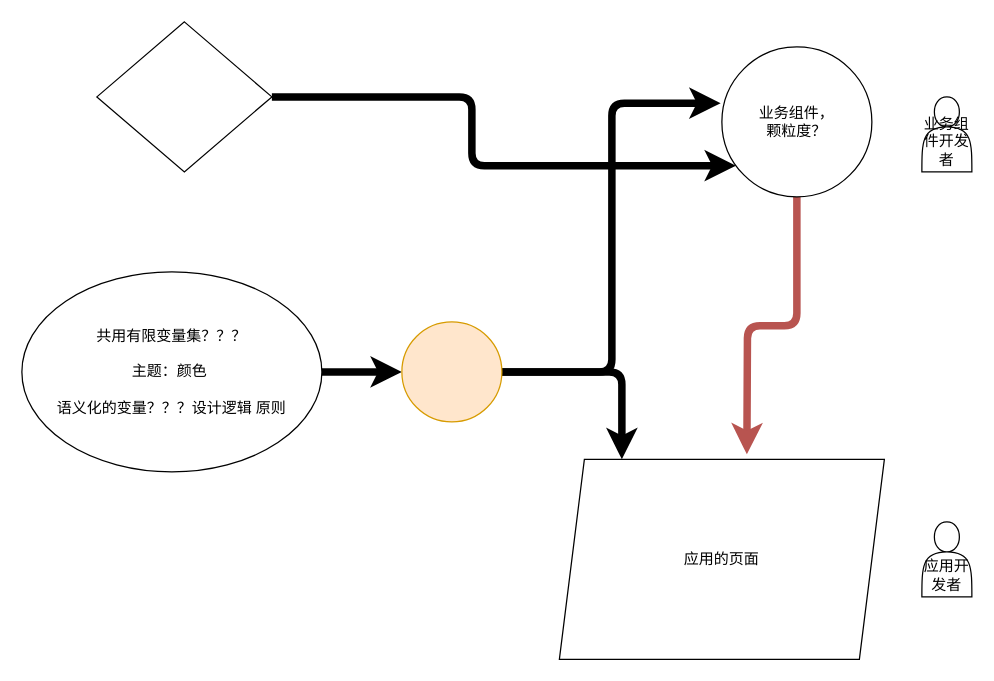
Some shapes in this 994 by 681 pixel diagram are drawn without their labels. Each missing label, with the centre of its shape:
业务组件设计稿: pixel 184 96
区块/布局 类的组件: pixel 451 371
